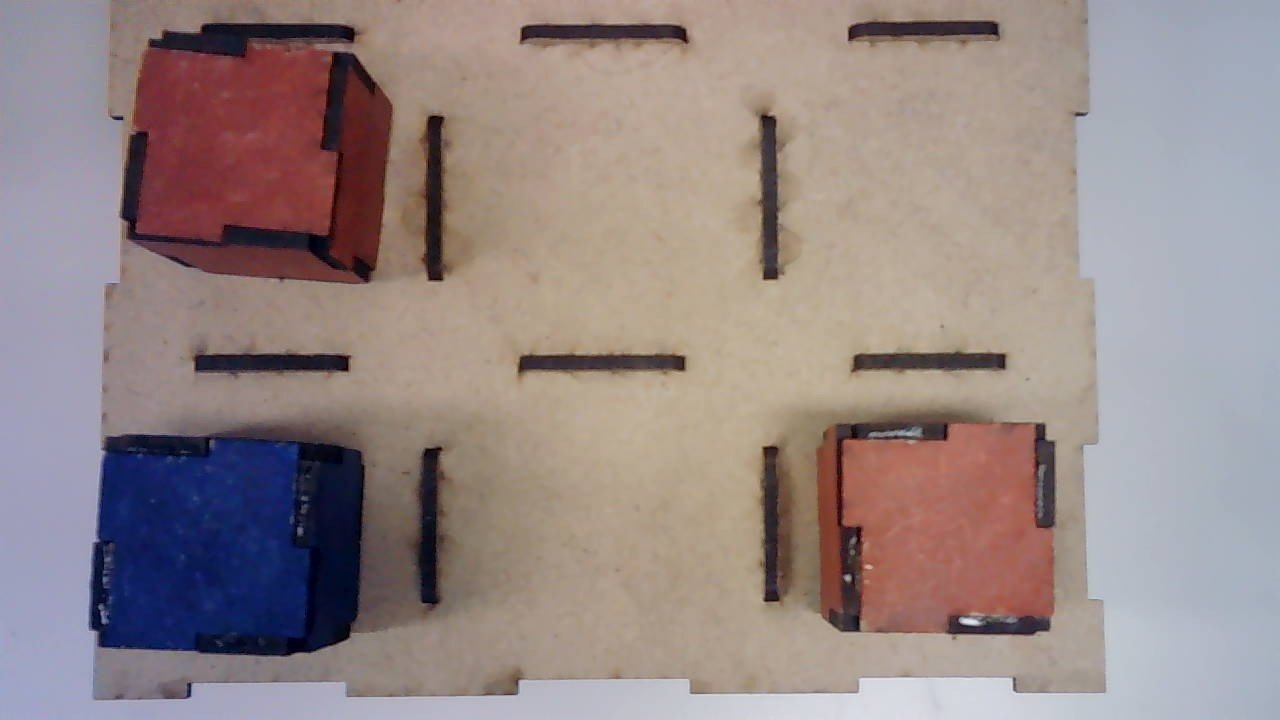blue box: (90, 433, 363, 660)
red box: (121, 32, 389, 286), (817, 419, 1060, 636)
